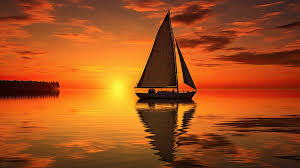boat: (134, 10, 199, 101)
